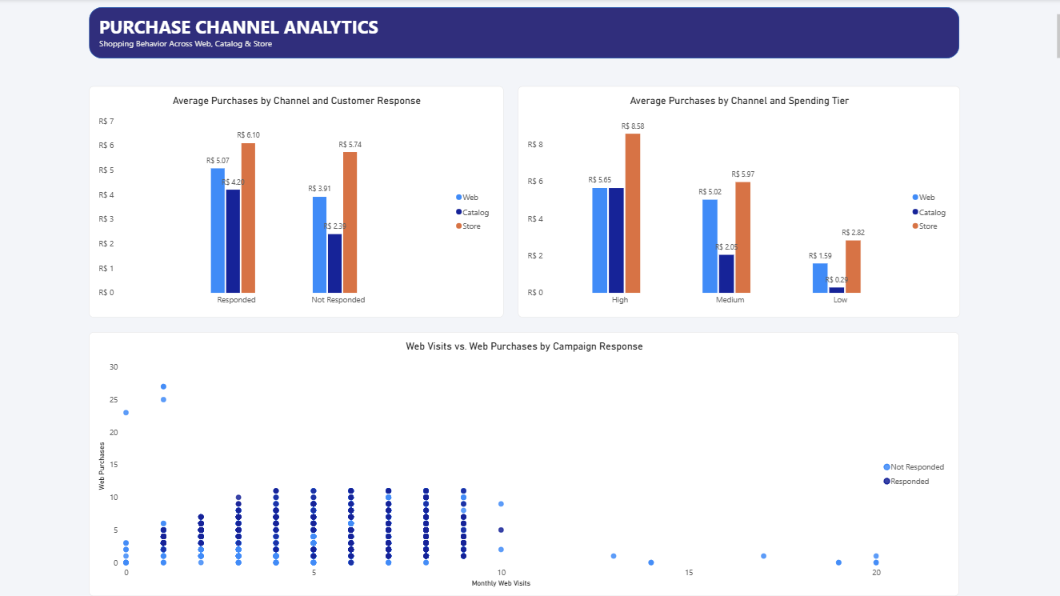

Layout of this report page (visuals, bound fields, positions):
{"tool":"powerbi","page":{"name":"Purchase Channel Analysis","canvas":[1920,1080],"ordinal":2},"visuals":[{"type":"shape","box":[161.2,13.8,1575,92.5],"z":0},{"type":"textbox","box":[178.8,26.2,1741.2,80],"z":1000},{"type":"clusteredColumnChart","title":"Average Purchases by Channel and Spending Tier","fields":{"Category":["marketing_campaign.Spending Tier"],"Y":["marketing_campaign.Avg Web Purchases","marketing_campaign.Avg Catalog Purchases","marketing_campaign.Avg Store Purchases"]},"box":[936.9,156.9,800,418.8],"z":2000},{"type":"clusteredColumnChart","title":"Average Purchases by Channel and Customer Response","fields":{"Category":["marketing_campaign.Customer Group"],"Y":["marketing_campaign.Avg Web Purchases","marketing_campaign.Avg Catalog Purchases","marketing_campaign.Avg Store Purchases"]},"box":[161.5,156.9,750,418.8],"z":3000},{"type":"scatterChart","title":"Web Visits vs. Web Purchases by Campaign Response","fields":{"Category":["marketing_campaign.ID"],"Series":["marketing_campaign.Response Status"],"X":["Sum(marketing_campaign.NumWebVisitsMonth)"],"Y":["Sum(marketing_campaign.NumWebPurchases)"]},"box":[161.1,602.6,1574.4,477.8],"z":4000}]}

Visuals, with their boxes in screenshot pixels (x1, y1, x2, y2), scaled from the page's 1920x1080 canvas onto the 1060x596 screenshot:
shape: 89,8,959,59
textbox: 99,14,1059,59
"Average Purchases by Channel and Spending Tier" clusteredColumnChart: 517,87,959,318
"Average Purchases by Channel and Customer Response" clusteredColumnChart: 89,87,503,318
"Web Visits vs. Web Purchases by Campaign Response" scatterChart: 89,333,958,595
